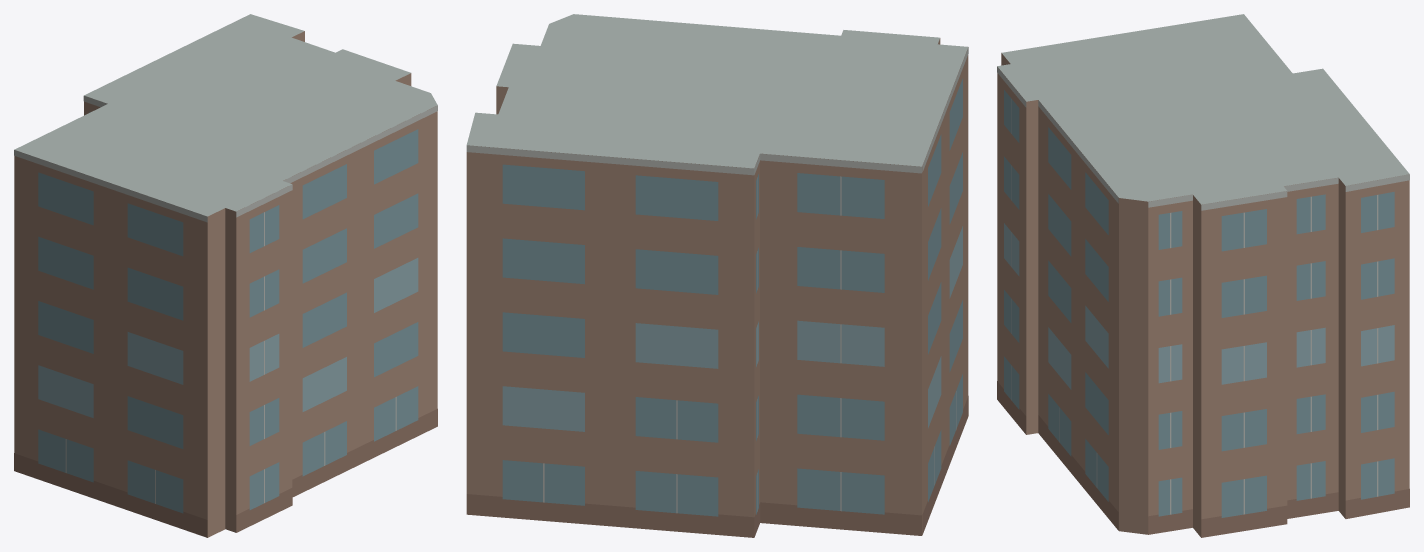
The model's file is survey-upis-32727511.glb.
3 renders of one model, left to right at view 1: azimuth 30°, elevation 25°; view 2: azimuth 150°, elevation 25°; view 3: azimuth 270°, elevation 25°, orthographic. The views are drawn at different scales.
Visible parts, largest first — view 1: survey-upis-32727511.tmp; view 2: survey-upis-32727511.tmp; view 3: survey-upis-32727511.tmp.
Part boxes in pixels (x1,y1,x2,y2): survey-upis-32727511.tmp: (14, 14, 437, 537); survey-upis-32727511.tmp: (466, 14, 968, 537); survey-upis-32727511.tmp: (997, 14, 1409, 537).
Size of the model in its own units: 16.14 by 13.15 by 14.77.
